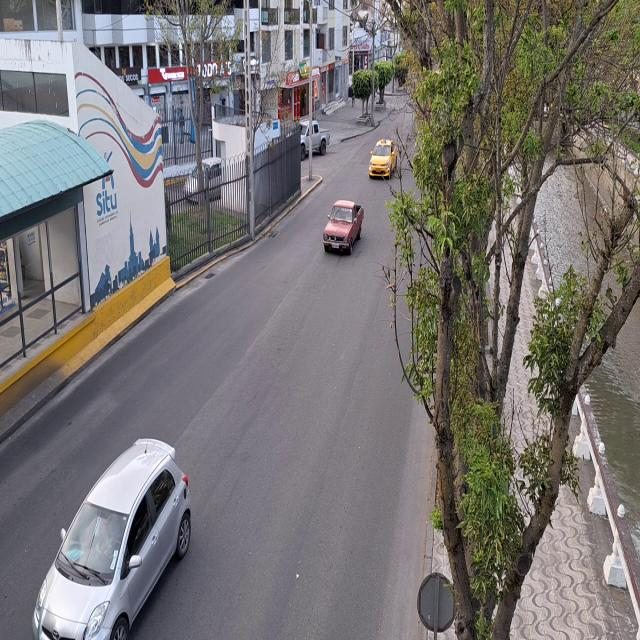CMT: (325, 200, 365, 253), (299, 120, 331, 160)
SED: (30, 436, 193, 639), (369, 138, 398, 180)
